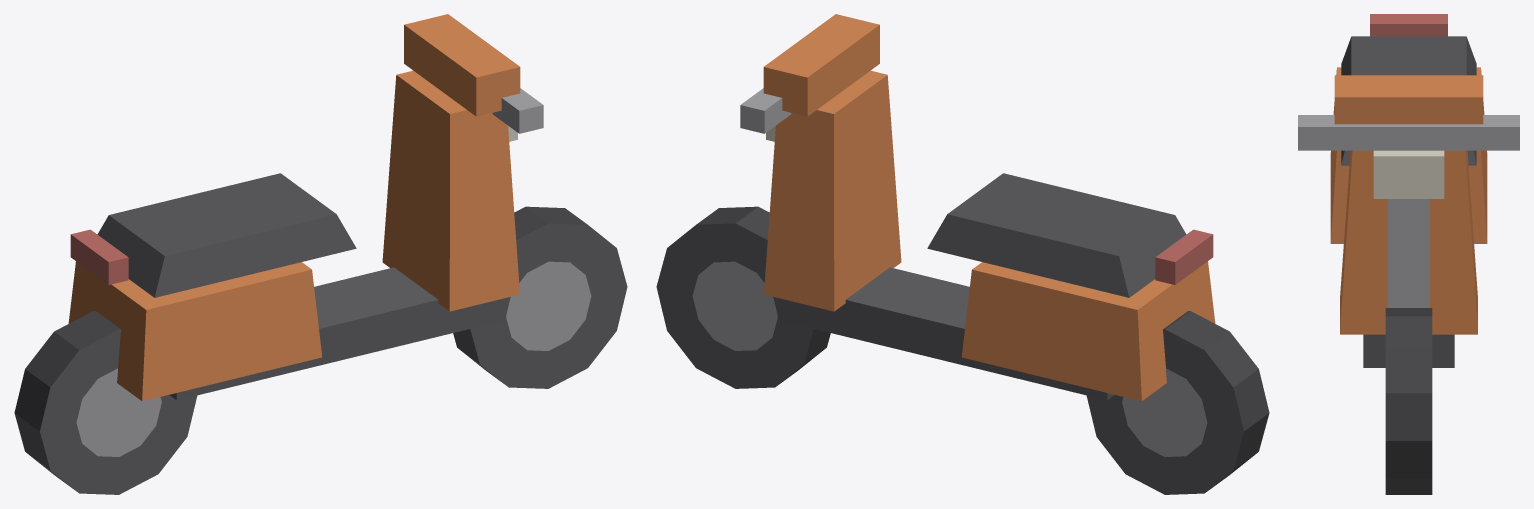
The model's file is scooter.gltf.
The picture shows the model from 3 angles, left to right: view 1: azimuth 30°, elevation 25°; view 2: azimuth 150°, elevation 25°; view 3: azimuth 270°, elevation 25°; orthographic projection. The views are drawn at different scales.
Size of the model in its own units: 2.68 by 1.53 by 0.85.
